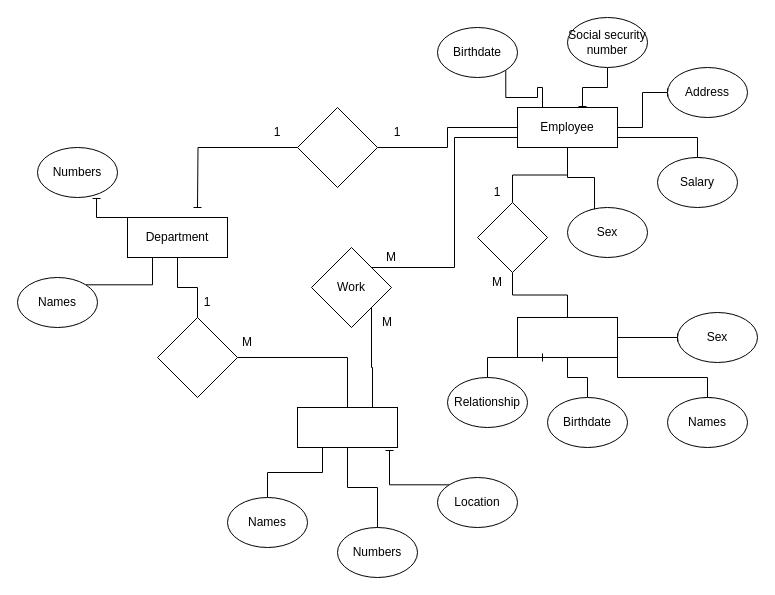
This 775x595 diagram has some shape labels left out. The centre of each missing label's shape, as x and y in pixels:
"Control" goes at point 197,357.
"Dependents" goes at point 567,337.
"Have" goes at point 512,237.
"Manages" goes at point 337,147.
"Project" goes at point 347,427.
